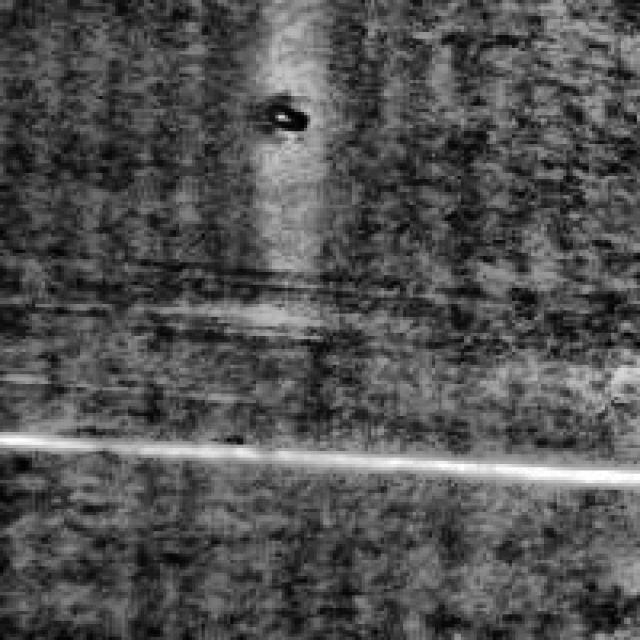Inclusion: (9, 416, 634, 486)
